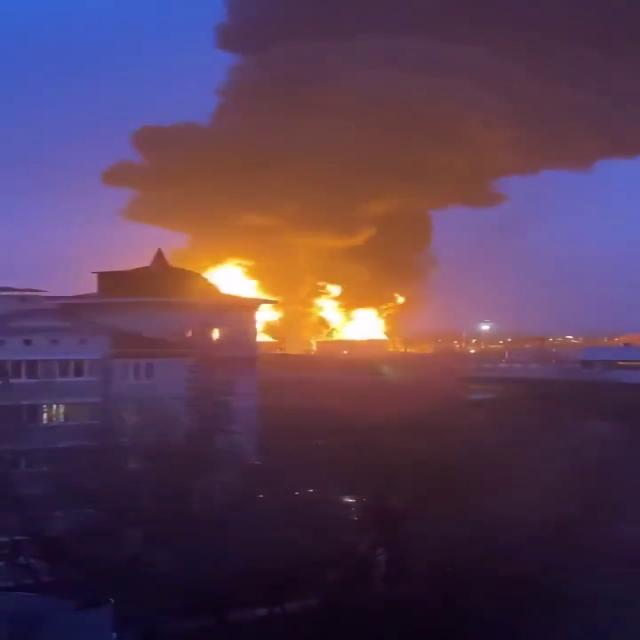Fire: (205, 262, 460, 356)
Smoke: (105, 0, 640, 246)
